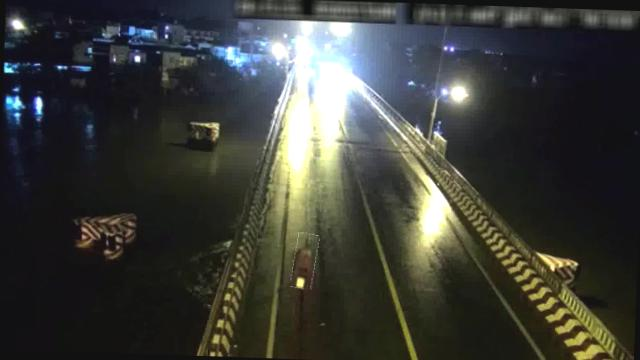Bike: (292, 233, 318, 290)
